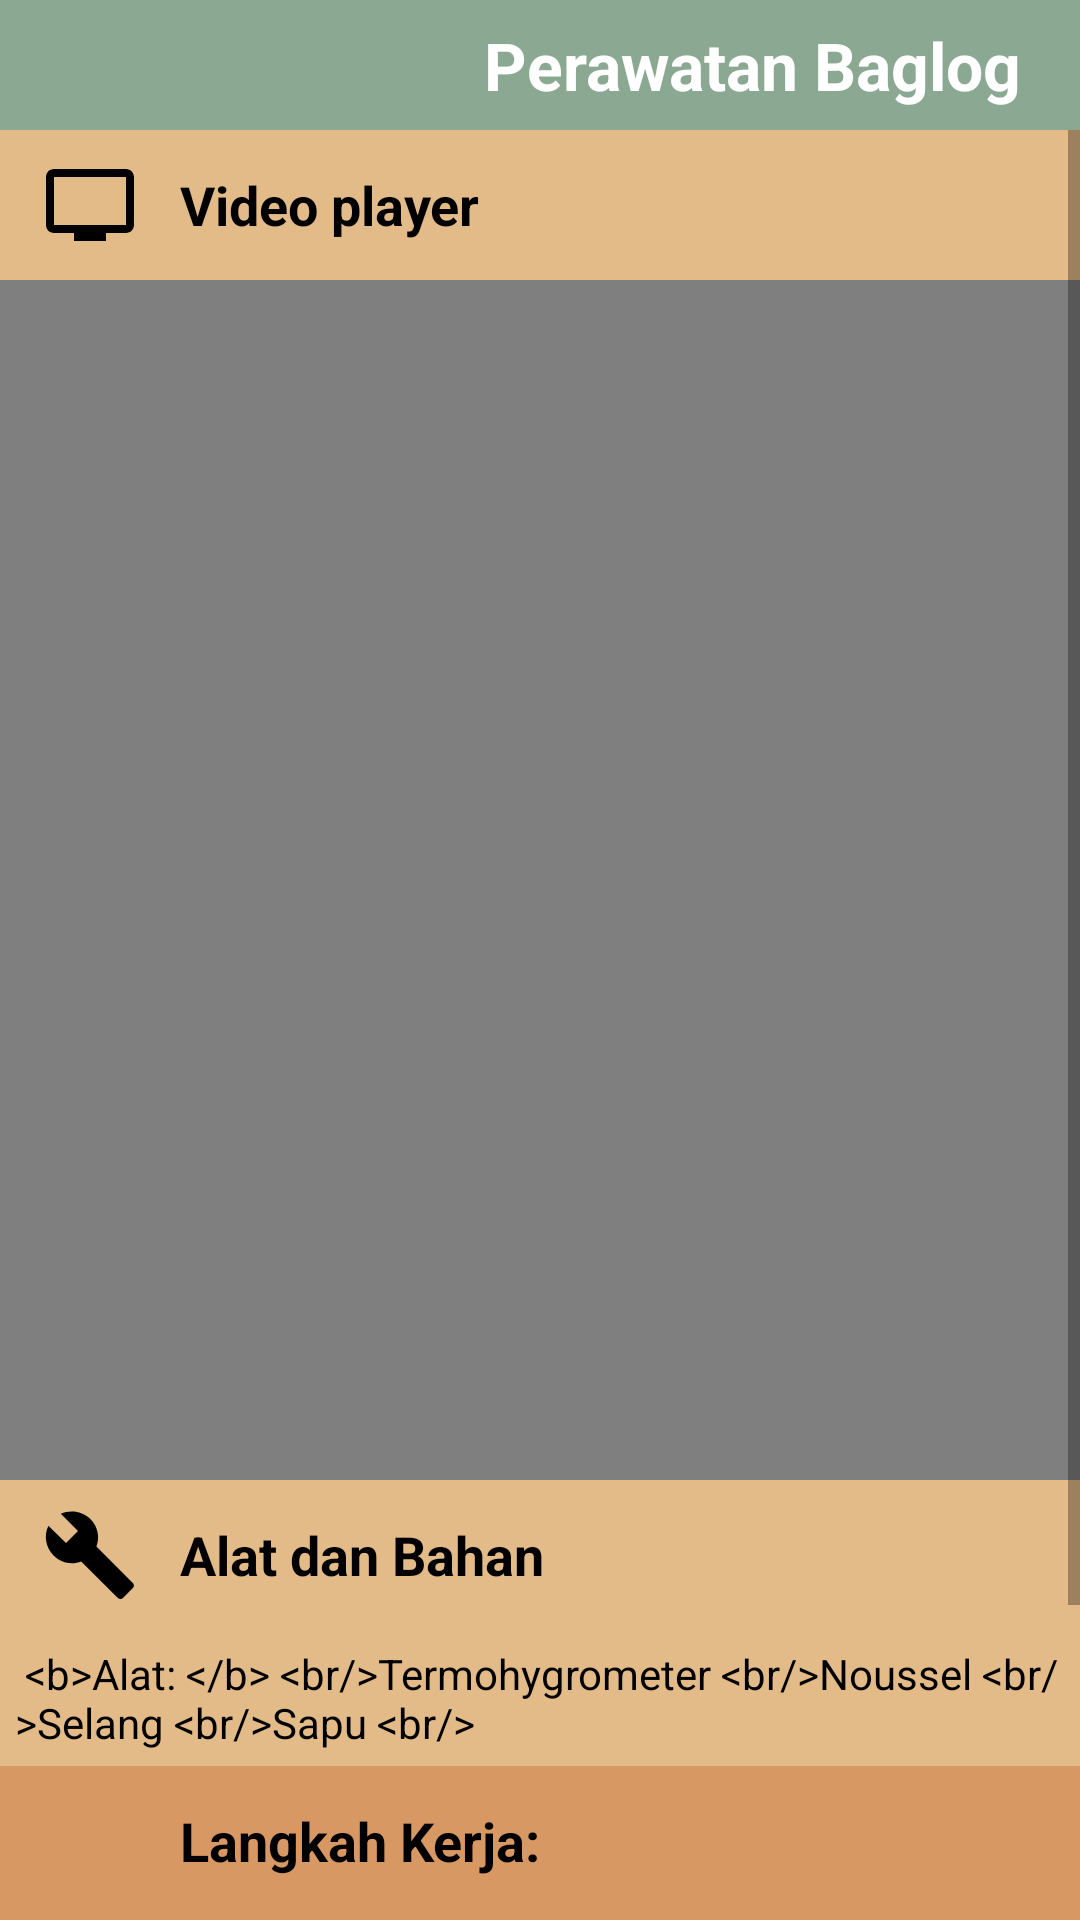

Icons on this 1080 x 1920 Android screen, each with its box as (x1, y1, x2, y2):
build: (45, 1511, 134, 1599)
